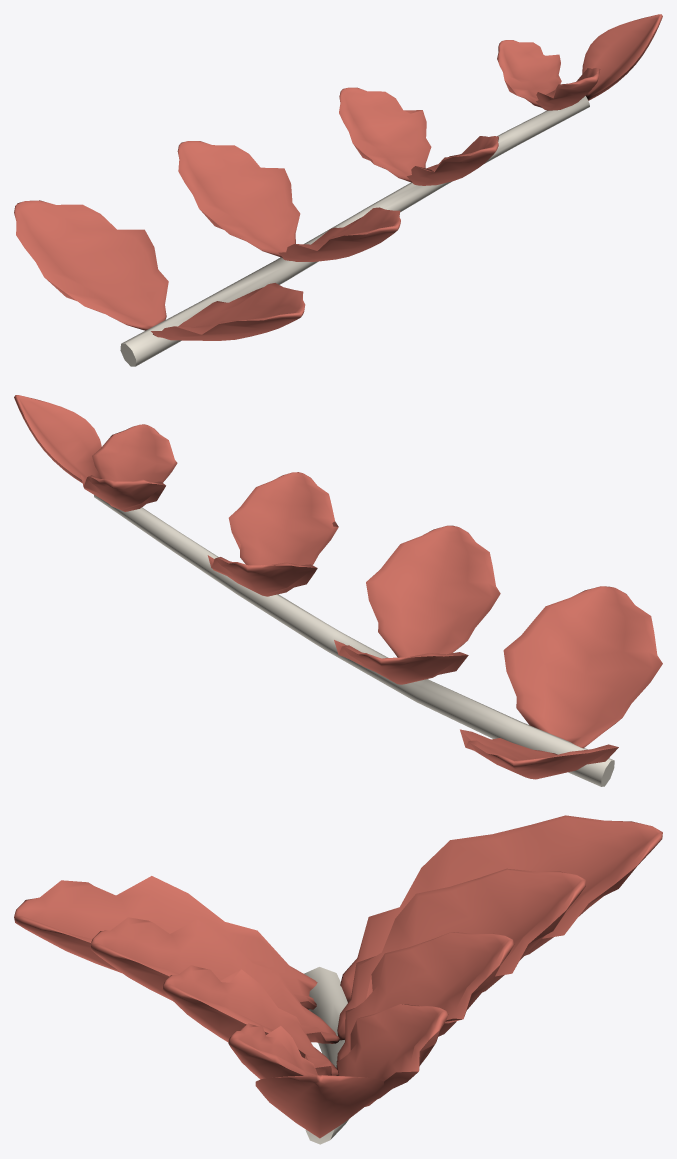
File: food_mint.glb
3 views of the same model, one above another, from view 1: azimuth 30°, elevation 25°; view 2: azimuth 150°, elevation 25°; view 3: azimuth 270°, elevation 25° (orthographic). The views are drawn at different scales.
Visible parts, largest first — view 1: PART; view 2: PART; view 3: PART.
Boxes of the visible parts, x1,y1,x2,y2 form: PART: (14, 14, 662, 366); PART: (14, 395, 662, 786); PART: (14, 815, 662, 1144).
Bounding box in the file's own units: 0.1831 × 0.067 × 0.1007.
